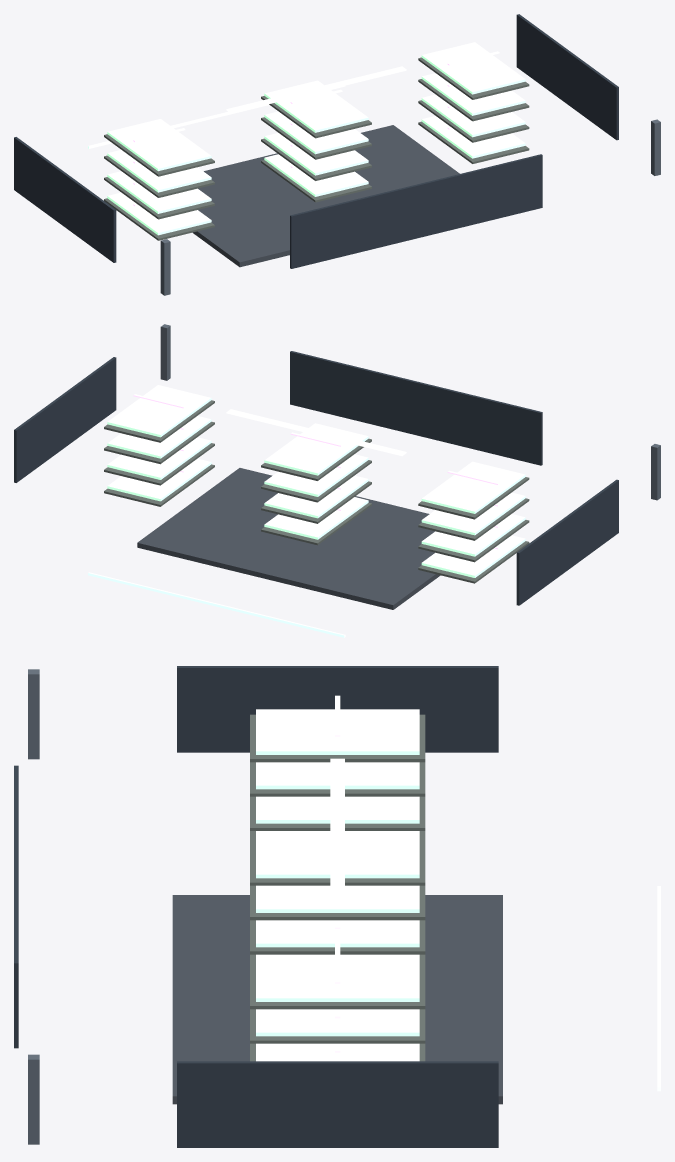
File: floor-food.glb
3 views of the same model, one above another, from view 1: azimuth 30°, elevation 25°; view 2: azimuth 150°, elevation 25°; view 3: azimuth 270°, elevation 25° (orthographic). The views are drawn at different scales.
Parts seen in each view (by area): view 1: WallBack_food, Slab_food, WallL_food, WallR_food, Crop_0_3, Crop_2_3, Crop_1_3, Crop_1_1, Crop_0_1, Crop_2_0, Crop_2_2, Crop_0_2 (+19 smaller); view 2: Slab_food, WallBack_food, WallL_food, WallR_food, Crop_0_3, Crop_2_3, Crop_1_3, Crop_0_1, Crop_2_2, Crop_2_0, Crop_1_1, Crop_2_1 (+20 smaller); view 3: WallR_food, Slab_food, WallL_food, Crop_0_3, Crop_2_3, Crop_1_3, Crop_2_2, Crop_1_1, Crop_1_2, Crop_0_1, Crop_0_2, Crop_2_1 (+13 smaller).
Part boxes in pixels (left/top/right/bottom): WallBack_food: left=290, top=154, right=542, bottom=268; Slab_food: left=193, top=125, right=459, bottom=267; WallL_food: left=14, top=137, right=116, bottom=262; WallR_food: left=516, top=14, right=618, bottom=140; Crop_0_3: left=107, top=119, right=211, bottom=171; Crop_2_3: left=421, top=42, right=525, bottom=94; Crop_1_3: left=264, top=80, right=368, bottom=132; Crop_1_1: left=264, top=133, right=368, bottom=175; Crop_0_1: left=107, top=171, right=211, bottom=213; Crop_2_0: left=421, top=116, right=525, bottom=158; Crop_2_2: left=421, top=73, right=525, bottom=115; Crop_0_2: left=107, top=149, right=211, bottom=192; Slab_food: left=137, top=468, right=440, bottom=609; WallBack_food: left=290, top=351, right=542, bottom=465; WallL_food: left=516, top=479, right=618, bottom=605; WallR_food: left=14, top=357, right=116, bottom=482; Crop_0_3: left=421, top=461, right=525, bottom=513; Crop_2_3: left=107, top=385, right=211, bottom=437; Crop_1_3: left=264, top=423, right=368, bottom=475; Crop_0_1: left=421, top=514, right=525, bottom=556; Crop_2_2: left=107, top=416, right=211, bottom=458; Crop_2_0: left=107, top=458, right=211, bottom=501; Crop_1_1: left=264, top=475, right=368, bottom=518; Crop_2_1: left=107, top=437, right=211, bottom=479; WallR_food: left=177, top=1061, right=498, bottom=1147; Slab_food: left=172, top=895, right=502, bottom=1104; WallL_food: left=177, top=666, right=498, bottom=752; Crop_0_3: left=256, top=709, right=419, bottom=754; Crop_2_3: left=256, top=956, right=419, bottom=1001; Crop_1_3: left=256, top=832, right=419, bottom=878; Crop_2_2: left=256, top=1009, right=419, bottom=1036; Crop_1_1: left=256, top=920, right=419, bottom=947; Crop_1_2: left=256, top=885, right=419, bottom=912; Crop_0_1: left=256, top=796, right=419, bottom=823; Crop_0_2: left=256, top=762, right=419, bottom=789; Crop_2_1: left=256, top=1043, right=419, bottom=1061.
Size of the model in its own units: 16.08 by 3.32 by 11.07.
